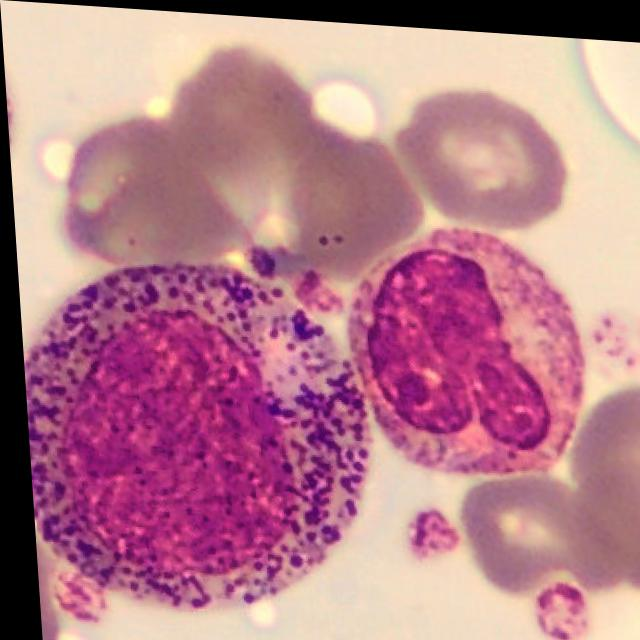Neutrofilo segmentado: (343, 220, 580, 467)
Promielocito: (19, 253, 366, 614)
